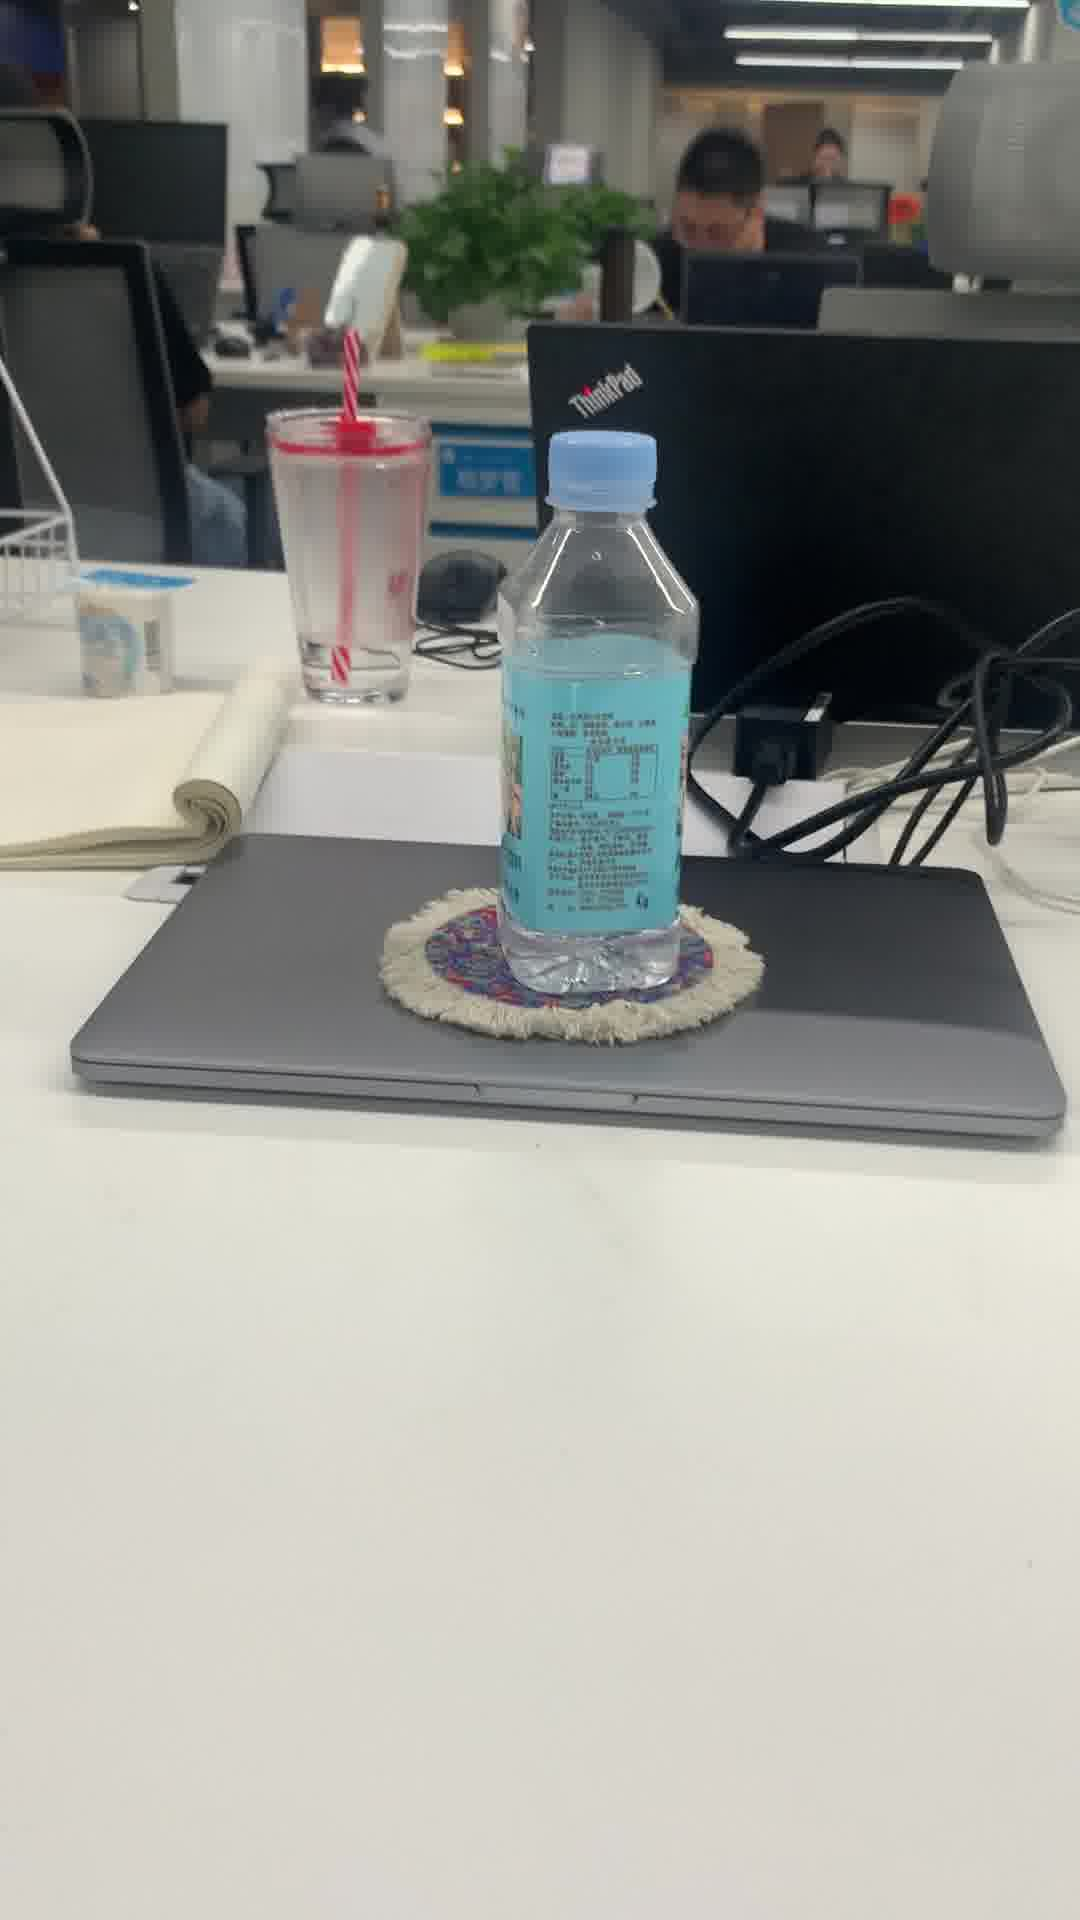水瓶: (491, 425, 695, 1006)
